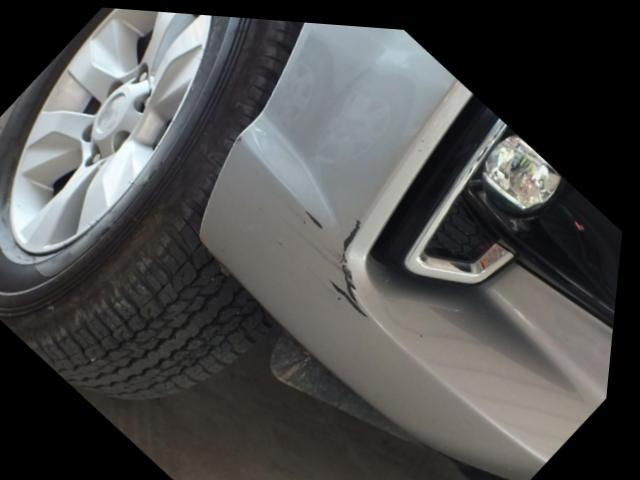scratch: (304, 206, 376, 313)
